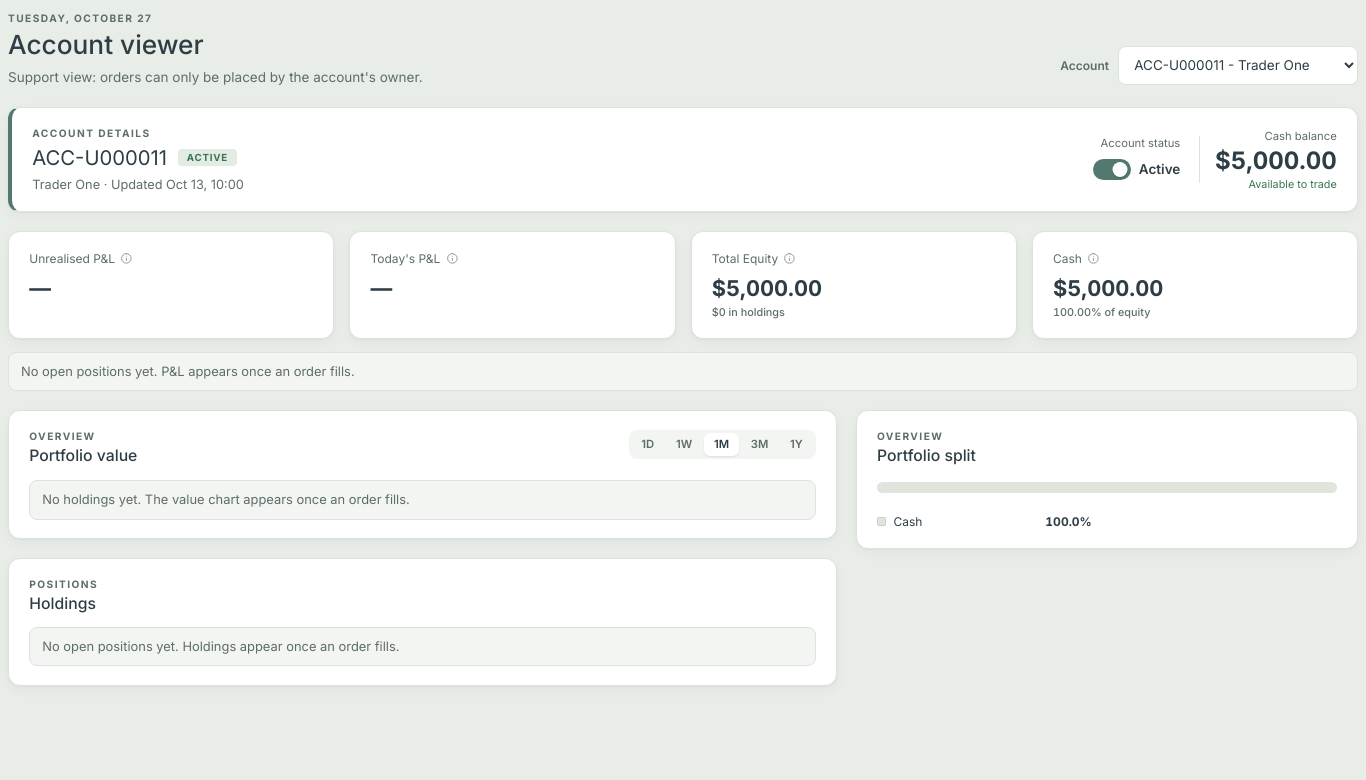
PortfolioComponent › for support › shows the API's reason when the status change is refused
This screenshot has width=1366, height=780.
Click the switch labelled "Active".
click(1137, 169)  # box [1093, 156, 1180, 183]
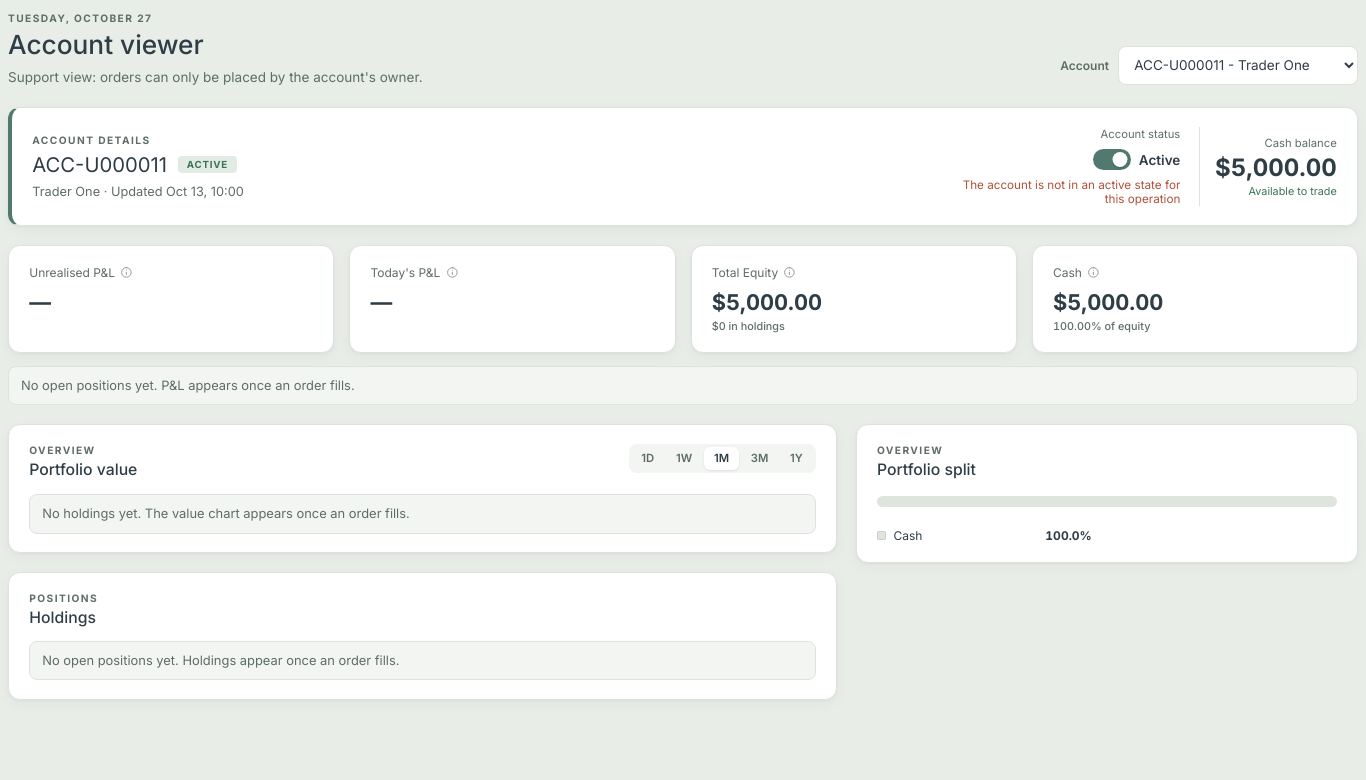
Expected: the message "The account is not in an active state for this operation" is shown, [940, 178, 1180, 206]
